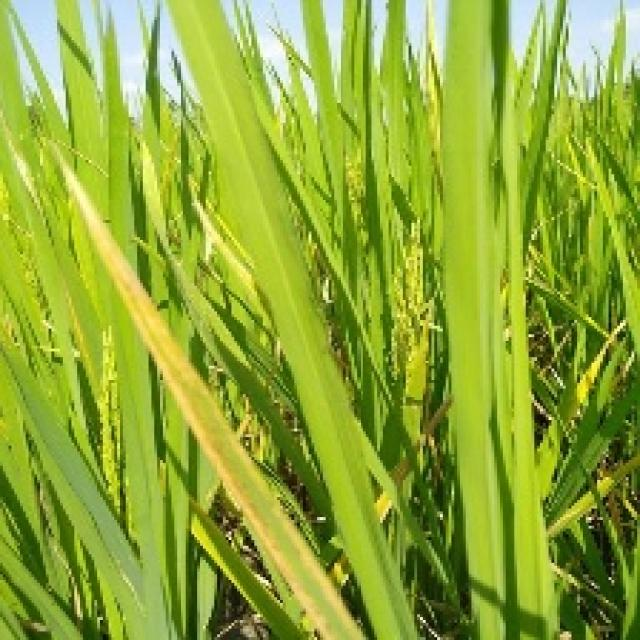Unhealthy: (61, 157, 367, 640), (427, 395, 453, 434), (373, 488, 392, 524), (392, 456, 411, 485), (329, 551, 346, 578)
